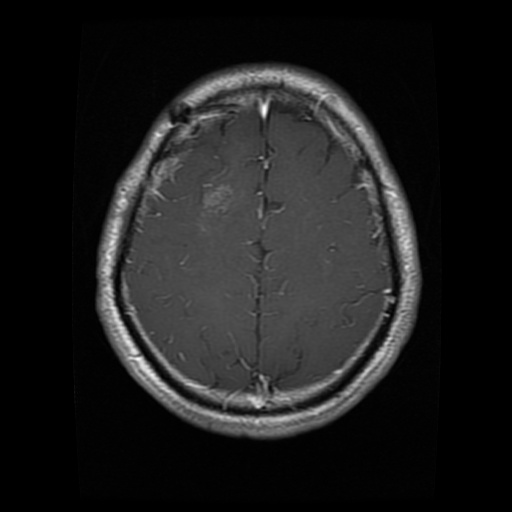glioma: (201, 181, 235, 215)
